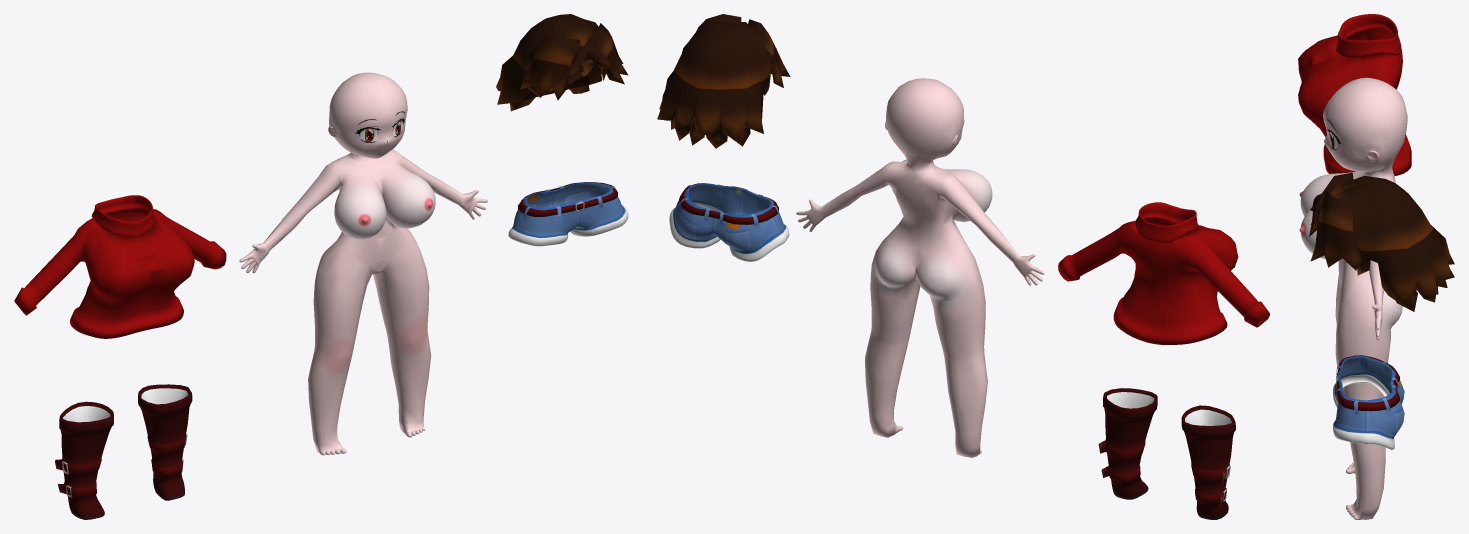
The model's file is ChibiChick.obj.
3 renders of one model, left to right at view 1: azimuth 30°, elevation 25°; view 2: azimuth 150°, elevation 25°; view 3: azimuth 270°, elevation 25°, orthographic. The views are drawn at different scales.
Parts seen in each view (by area): view 1: Girl_Cube, Top_Cylinder.001, Boots_Cube.002, Hair_Cube.001, Paints_Cylinder.002; view 2: Girl_Cube, Top_Cylinder.001, Hair_Cube.001, Boots_Cube.002, Paints_Cylinder.002; view 3: Girl_Cube, Hair_Cube.001, Top_Cylinder.001, Paints_Cylinder.002.
Part boxes in pixels (<box>): Girl_Cube: <box>239,72,487,455</box>; Top_Cylinder.001: <box>14,195,226,338</box>; Boots_Cube.002: <box>55,384,192,519</box>; Hair_Cube.001: <box>496,14,628,111</box>; Paints_Cylinder.002: <box>508,182,628,246</box>; Girl_Cube: <box>796,78,1044,457</box>; Top_Cylinder.001: <box>1058,202,1269,344</box>; Hair_Cube.001: <box>657,14,790,148</box>; Boots_Cube.002: <box>1098,388,1235,519</box>; Paints_Cylinder.002: <box>669,183,789,261</box>; Girl_Cube: <box>1299,77,1407,519</box>; Hair_Cube.001: <box>1309,172,1454,311</box>; Top_Cylinder.001: <box>1298,14,1411,175</box>; Paints_Cylinder.002: <box>1333,354,1404,449</box>.
Bounding box in the file's own units: 11.69 × 6.91 × 2.33.
